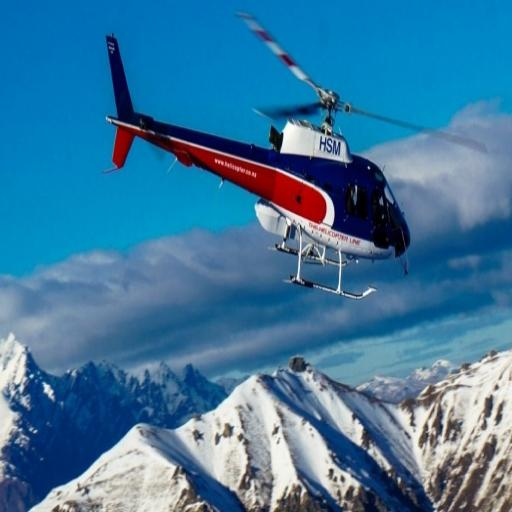helicopter: (103, 2, 453, 321)
